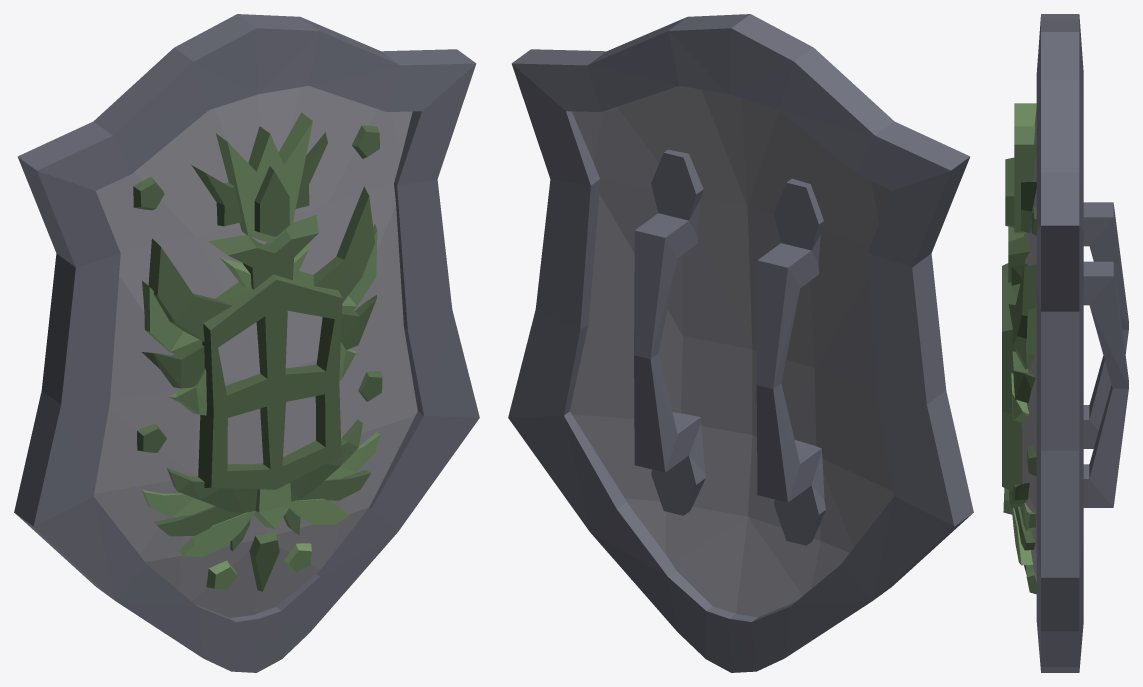
Rendered from shield_shield_20.glb.
The picture shows the model from 3 angles, left to right: view 1: azimuth 30°, elevation 25°; view 2: azimuth 150°, elevation 25°; view 3: azimuth 270°, elevation 25°; orthographic projection.
Parts seen in each view (by area): view 1: shield_20; view 2: shield_20; view 3: shield_20.
Boxes of the visible parts, x1,y1,x2,y2 form: shield_20: (14,14,479,672); shield_20: (508,14,973,672); shield_20: (1002,14,1128,672).
Size of the model in its own units: 66.25 by 91.44 by 16.53.
Materials: 1 (1 with a texture image).
